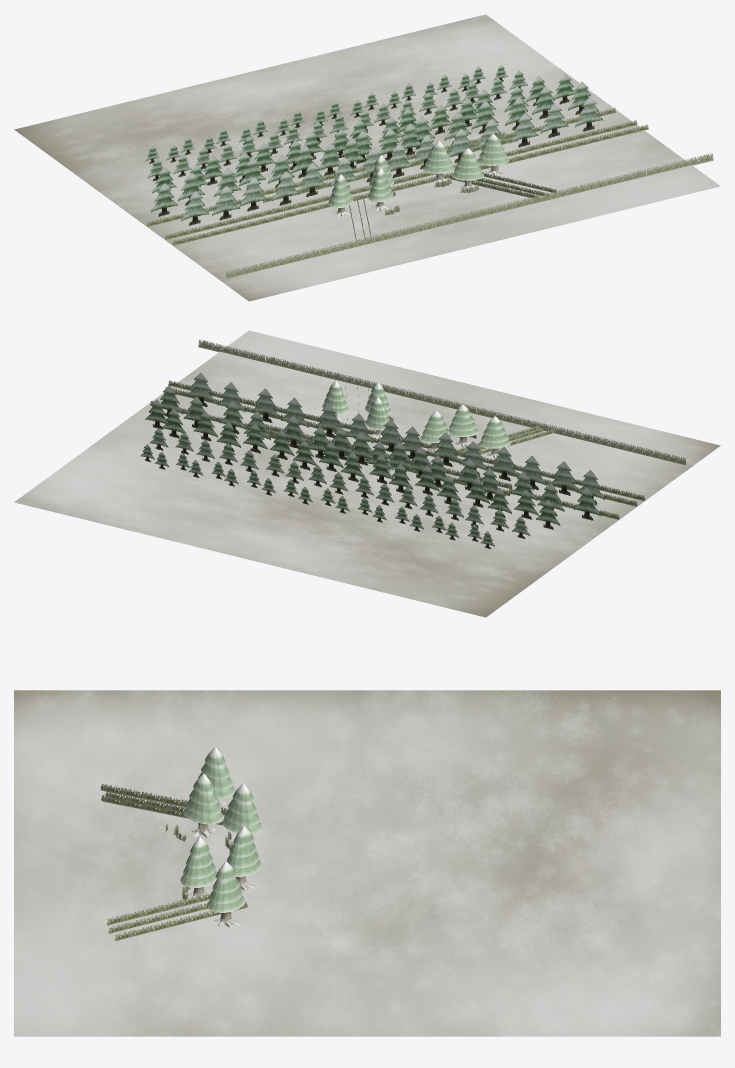
Rendered from 315_bg_forestD.fbx.
3 views of the same model, one above another, from view 1: azimuth 30°, elevation 25°; view 2: azimuth 150°, elevation 25°; view 3: azimuth 270°, elevation 25° (orthographic). The views are drawn at different scales.
Parts seen in each view (by area): view 1: ground, pPlane321, pPlane326, pPlane322, pPlane325, pPlane323, pPlane183, pPlane324, pPlane65, pPlane186; view 2: ground, pPlane65, pPlane325, pPlane184, pPlane323; view 3: ground.
Part boxes in pixels (left/top/right/bottom): ground: left=14, top=14, right=720, bottom=301; pPlane321: left=575, top=97, right=603, bottom=131; pPlane326: left=181, top=191, right=209, bottom=225; pPlane322: left=540, top=104, right=568, bottom=137; pPlane325: left=212, top=186, right=239, bottom=220; pPlane323: left=510, top=113, right=538, bottom=147; pPlane183: left=298, top=162, right=326, bottom=197; pPlane324: left=239, top=177, right=267, bottom=211; pPlane65: left=272, top=171, right=299, bottom=205; pPlane186: left=388, top=143, right=412, bottom=178; ground: left=14, top=330, right=720, bottom=617; pPlane65: left=491, top=446, right=518, bottom=481; pPlane325: left=551, top=461, right=578, bottom=495; pPlane184: left=432, top=432, right=460, bottom=466; pPlane323: left=251, top=388, right=279, bottom=422; ground: left=14, top=690, right=720, bottom=1036.
Bounding box in the file's own units: 5395 × 427 × 4447.
